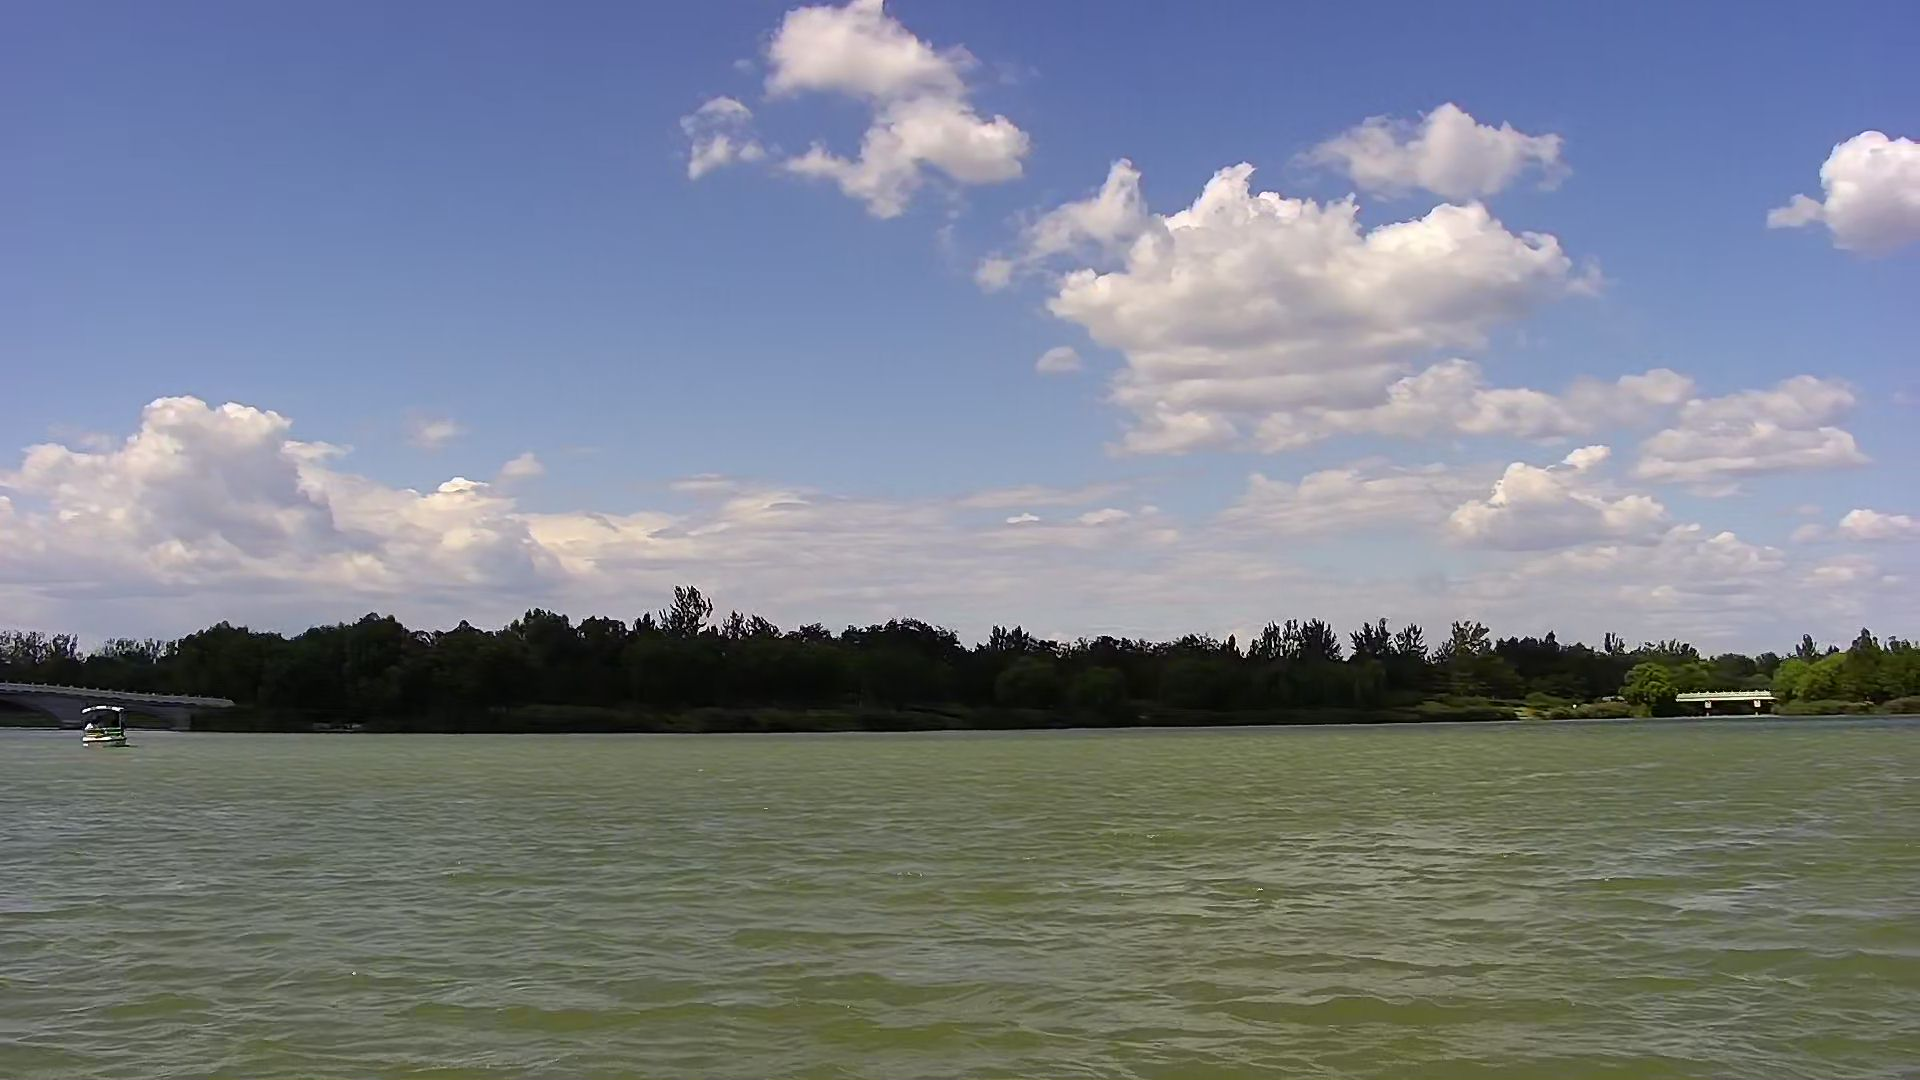boat: (76, 702, 132, 758)
bridge: (1, 679, 225, 731), (1673, 684, 1779, 727)
